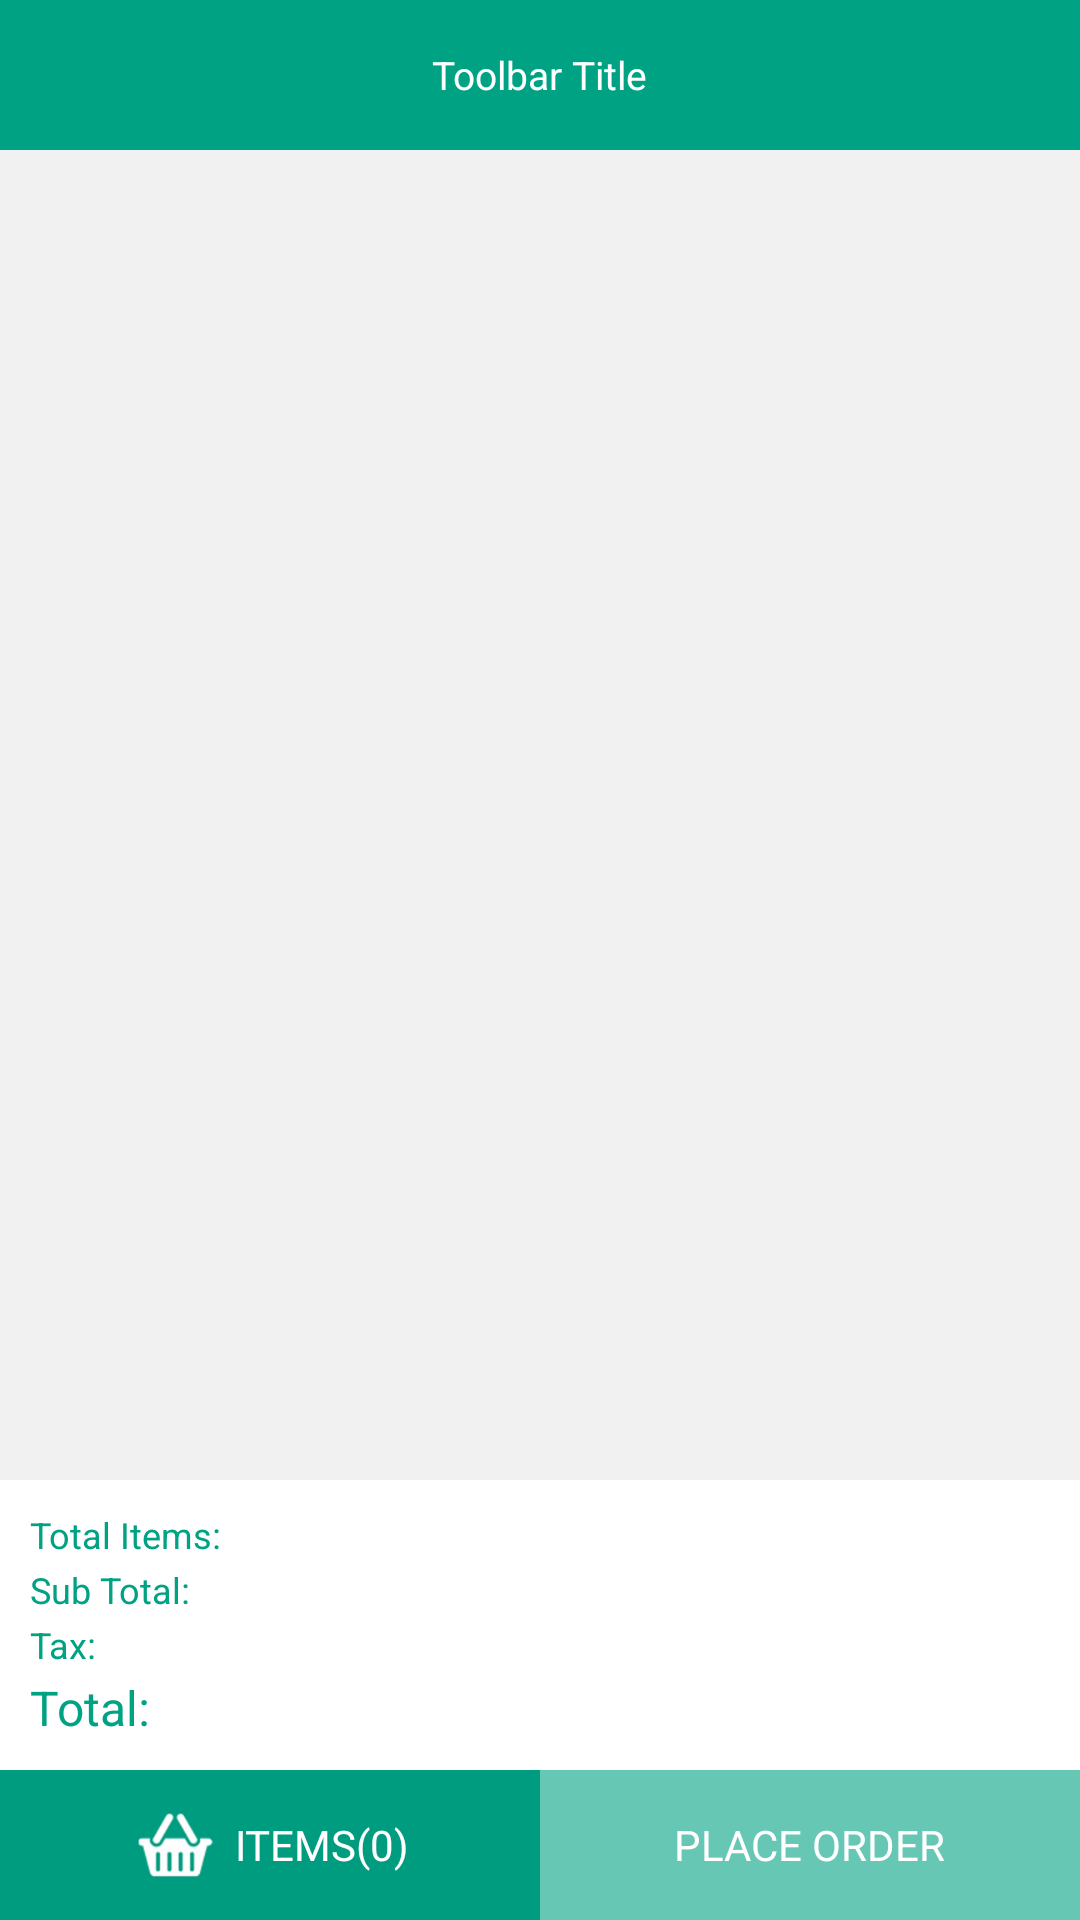

Icon click points for this 1080w x 1920h phone screenshot, format (x,y):
cart: (175,1845)
